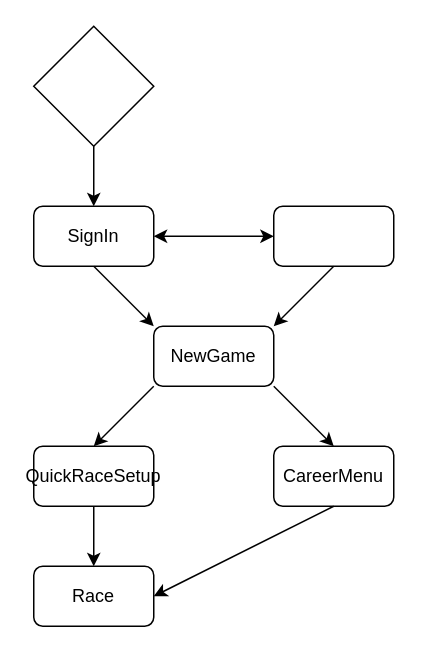
This 432x653 diagram has some shape labels left out. Each missing label, with the box of its shape:
Register: (272, 205, 394, 266)
Start: (32, 25, 154, 146)
